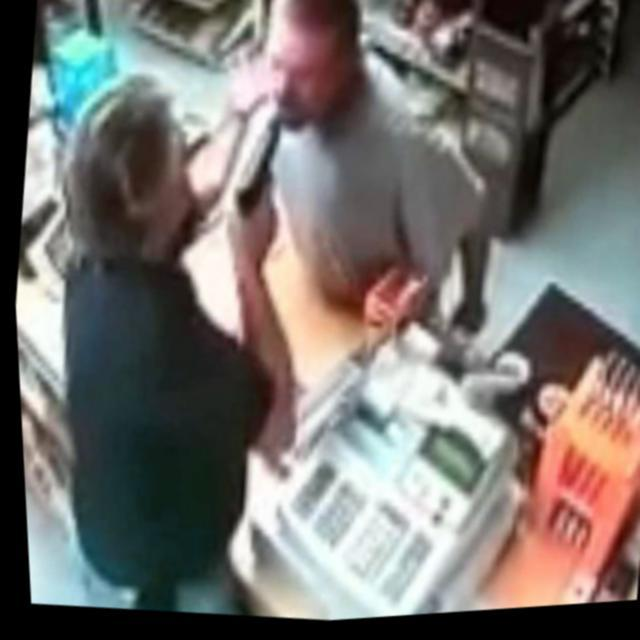weapon: (230, 107, 286, 223)
